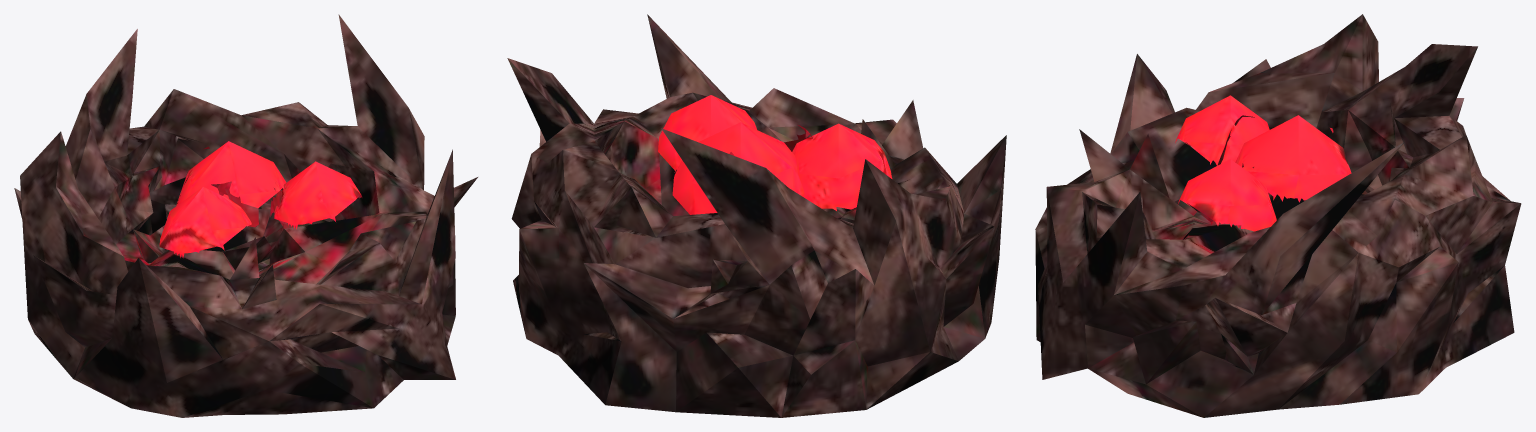
The model's file is nest_twig-C5DKQbWy.glb.
The picture shows the model from 3 angles, left to right: view 1: azimuth 30°, elevation 25°; view 2: azimuth 150°, elevation 25°; view 3: azimuth 270°, elevation 25°; orthographic projection. The views are drawn at different scales.
Parts seen in each view (by area): view 1: nest_body, egg_0, egg_1, egg_2; view 2: nest_body, egg_1, egg_0, egg_2; view 3: nest_body, egg_0, egg_2, egg_1.
Part boxes in pixels (x1=…): nest_body: x1=14, y1=14, x2=477, y2=417; egg_0: x1=176, y1=141, x2=286, y2=208; egg_1: x1=159, y1=187, x2=251, y2=257; egg_2: x1=274, y1=161, x2=362, y2=229; nest_body: x1=507, y1=14, x2=1006, y2=417; egg_1: x1=792, y1=123, x2=892, y2=210; egg_0: x1=672, y1=122, x2=804, y2=214; egg_2: x1=658, y1=95, x2=756, y2=172; nest_body: x1=1035, y1=14, x2=1521, y2=417; egg_0: x1=1235, y1=115, x2=1351, y2=202; egg_2: x1=1178, y1=159, x2=1276, y2=231; egg_1: x1=1175, y1=95, x2=1269, y2=165.
Size of the model in its own units: 1.2 by 0.6647 by 1.07.
2 materials, 2 textured.
